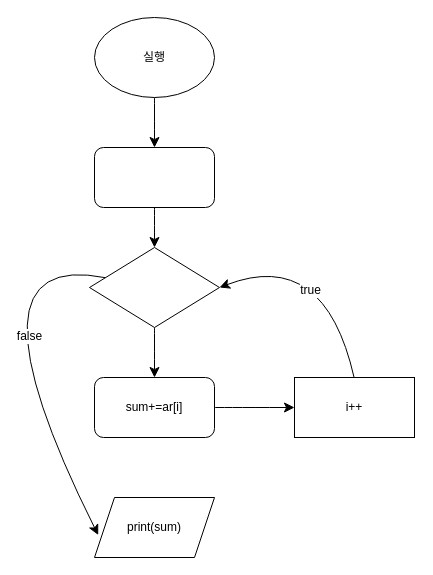
This 433x575 diagram has some shape labels left out. The shapes that lost their labels are listed below. From the top down, each one's centre as x and y in pixels, then its label:
At point (154, 177): "n입력 ar[n] 선언 sum=0".
At point (154, 287): "int i=0; i<ar.length;".
